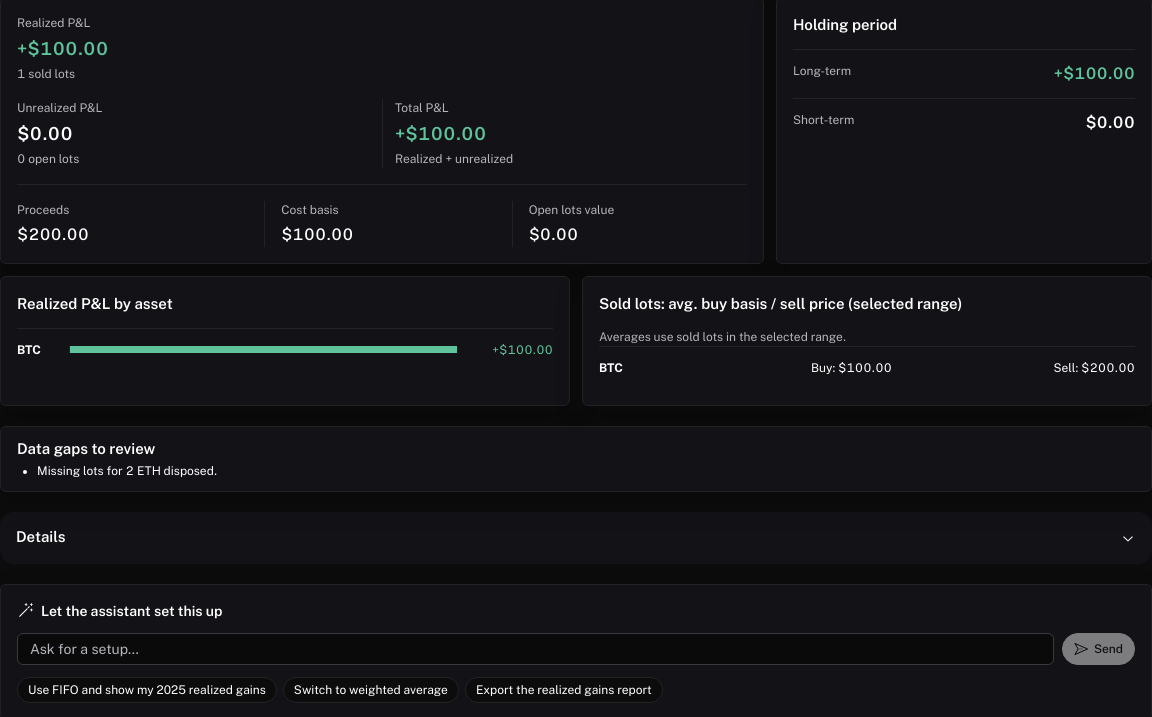
expands phone cost lots inline with their signed gain
(page scrolled)
Click the button "Details" at (41, 537), box [0,512,1151,564]
(page scrolled)
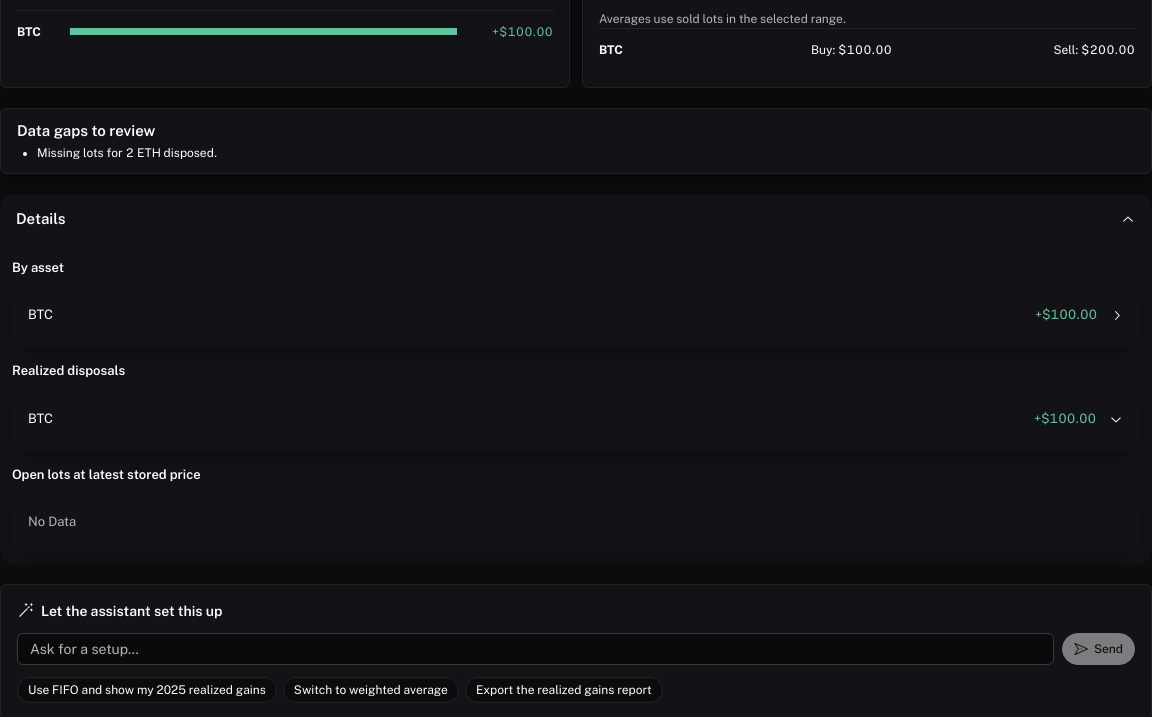
Click the button "BTC +$100.00" below "Realized disposals" at (1073, 418), box [12,388,1140,448]
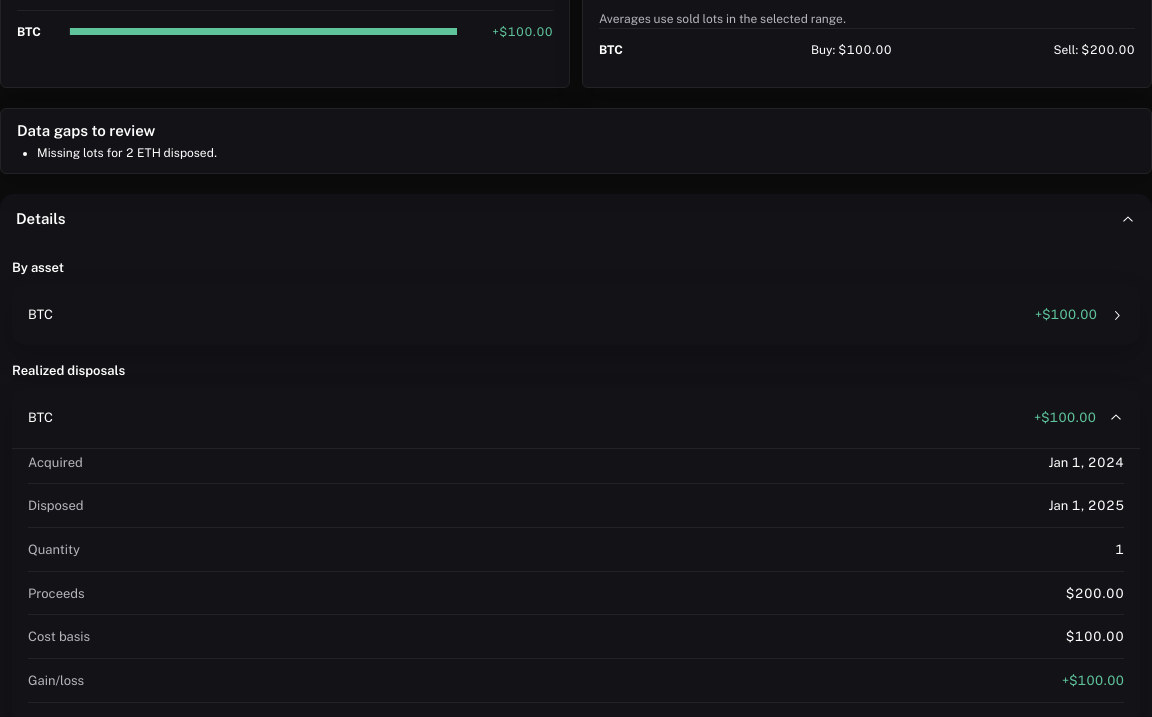
Expected: the button "BTC +$100.00" below "Realized disposals" is expanded, [12,388,1140,448]
Expected: the text "Acquired" is shown, [28,452,83,472]
Expected: the text "Jan 1, 2024" is shown, [1048,452,1124,472]
